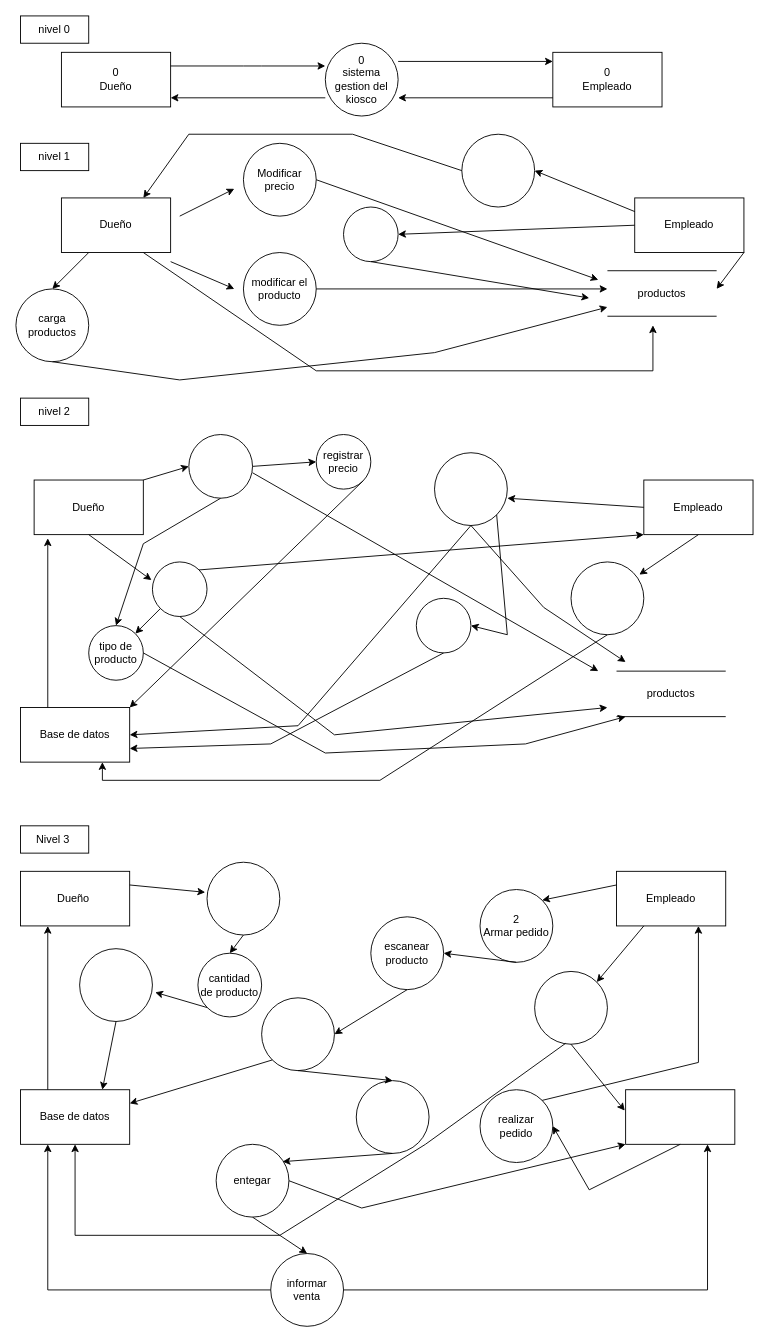
Image size: 769x1342. Some labels were removed from this diagram. Here are the shapes that lost their labels. From the top down, the centre of each, then its label:
At point (498, 170): "Informe de ventas".
At point (370, 234): "consultar producto".
At point (220, 466): "Ingresar precio".
At point (470, 489): "armar pedido".
At point (179, 589): "Elegir producto".
At point (607, 598): "subir informe de ventas".
At point (443, 625): "consultar stock".
At point (243, 898): "2 tipo de producto".
At point (115, 984): "registrar producto".
At point (570, 1007): "emitir ticket".
At point (297, 1034): "2 consultar stock".
At point (392, 1116): "listo para entregar".
At point (680, 1116): "Cliente".
